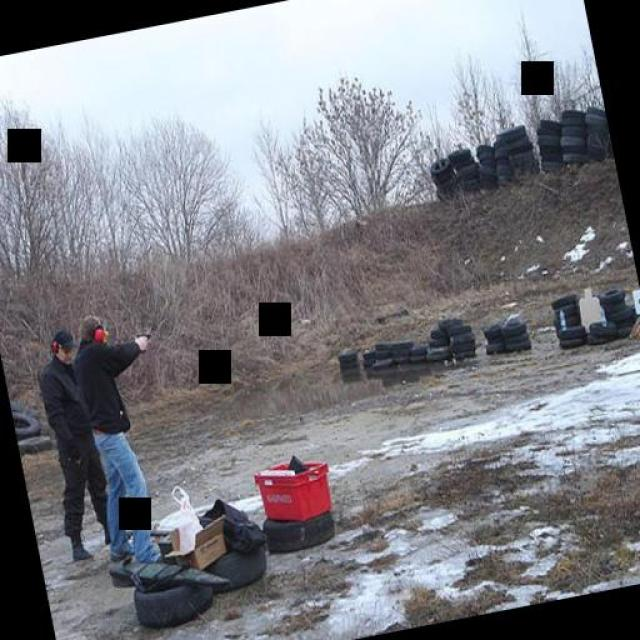gun: (128, 330, 152, 356)
